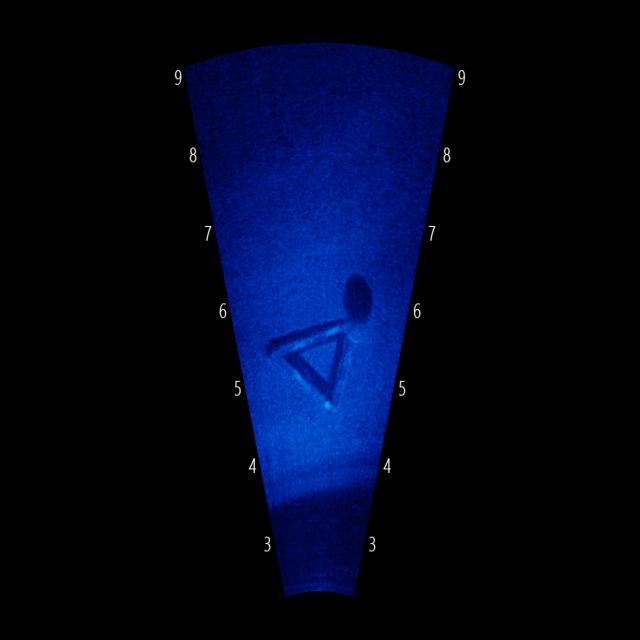triangle: (263, 304, 363, 418)
